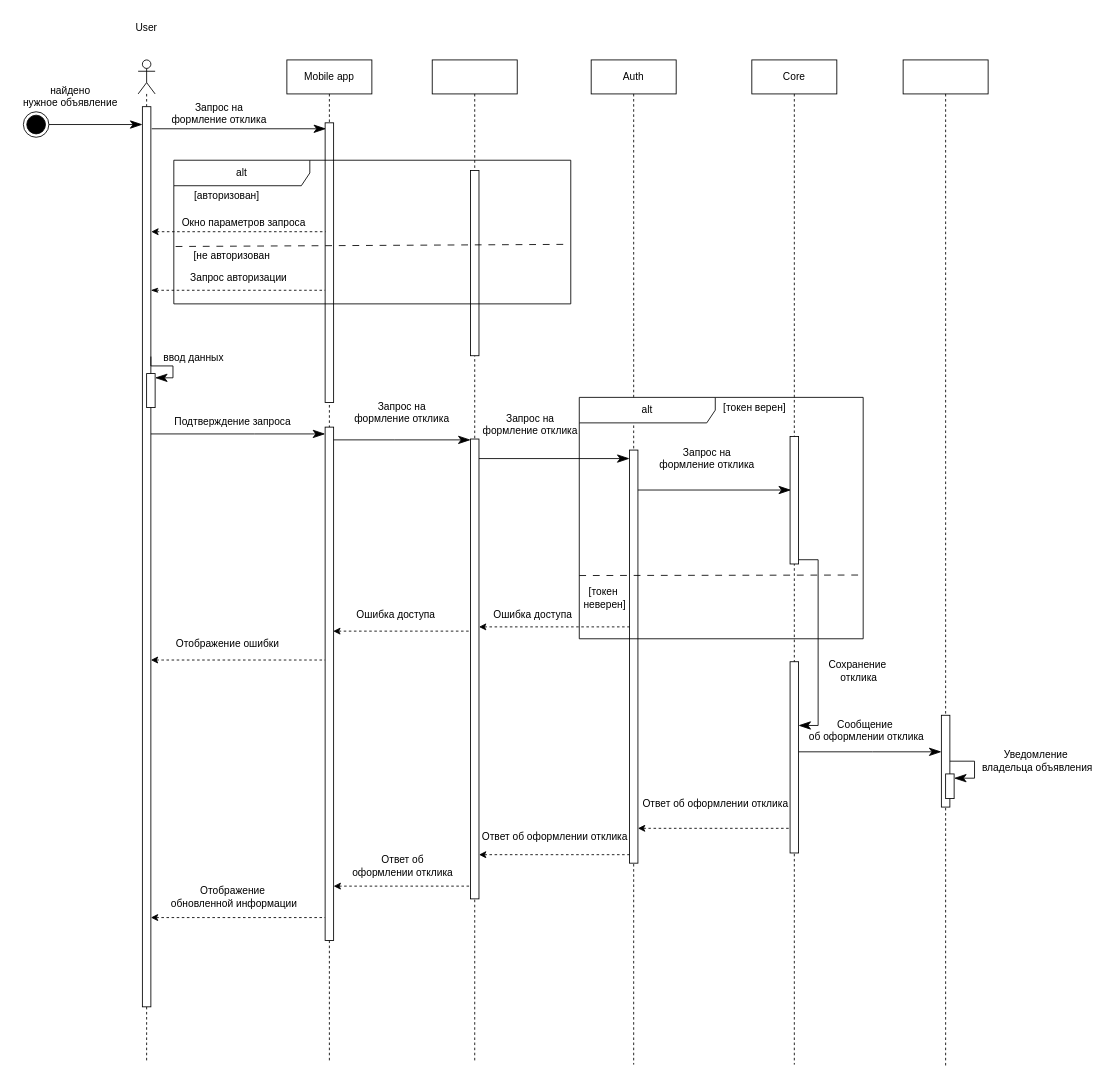
The diagram is 1114 pixels wide and 1081 high, and some of its shapes have lost their labels. Each missing label, with the box of its shape:
Gateway: (431, 59, 517, 1061)
Notifications: (902, 59, 988, 1066)
